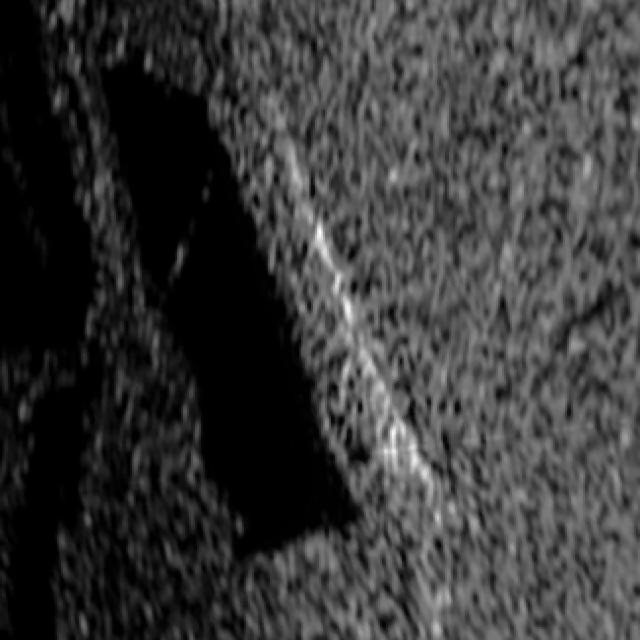Ship: (98, 34, 453, 578)
